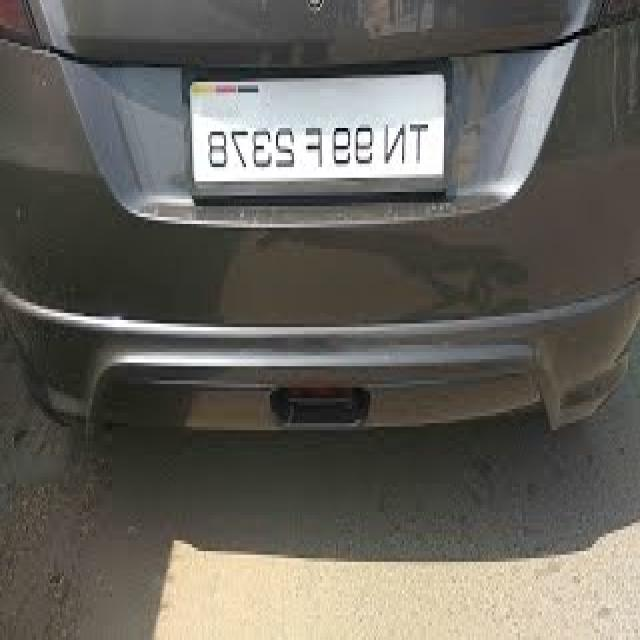number-plate: (196, 102, 436, 196)
